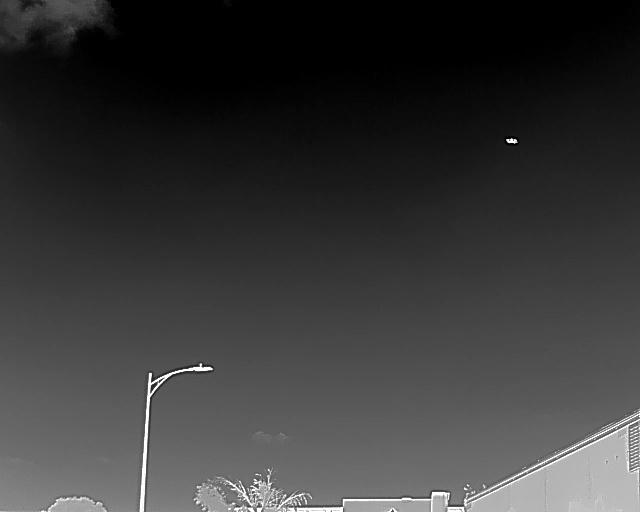fpv-drone: (504, 137, 518, 144)
